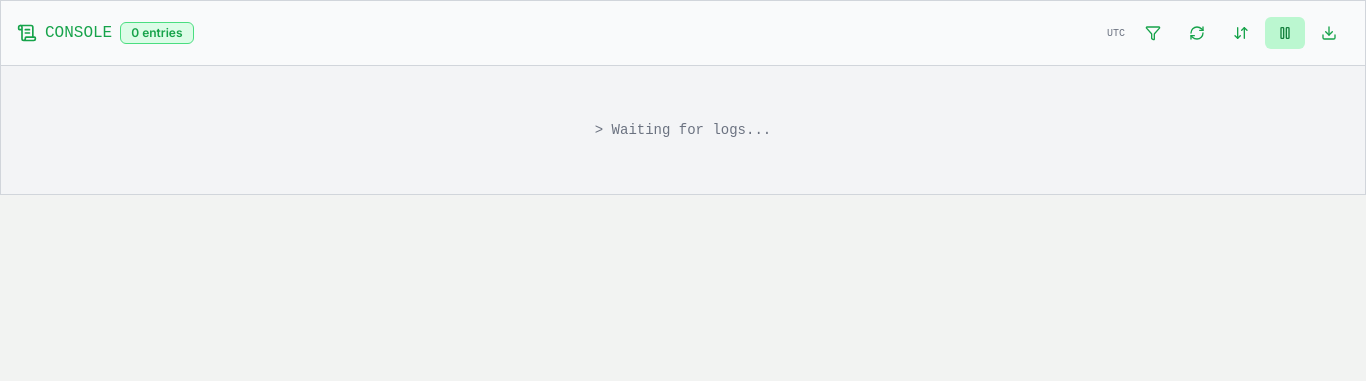
Scenario: ConsoleInterface › date range filtering › resets search, date and range and sends null from Clear
Step 1. Click the 1st button → point(1153, 33), box [1133,17,1173,49]
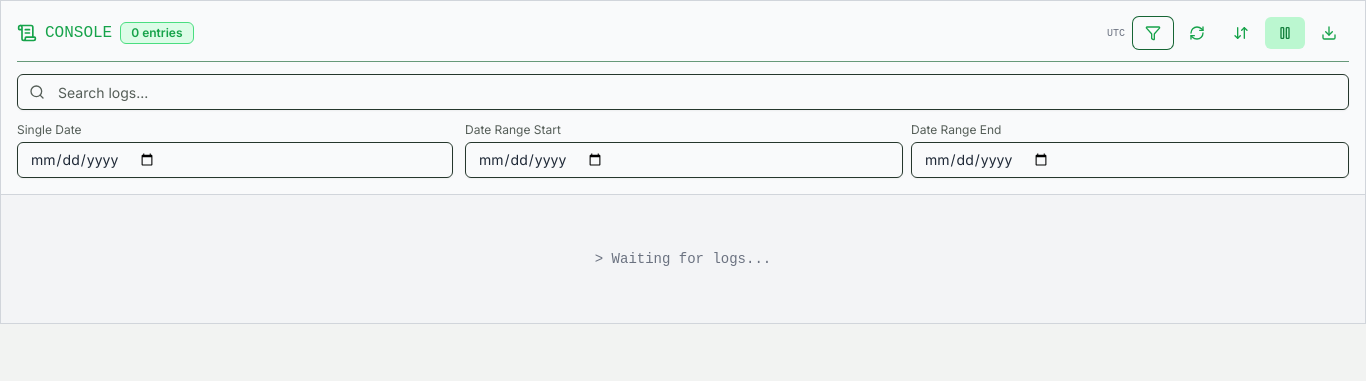
Expected: the button "clear" is not shown
Step 2. Type "2024-03-01" into the date field below "Date Range Start" → point(684, 160), box [465,142,903,178]
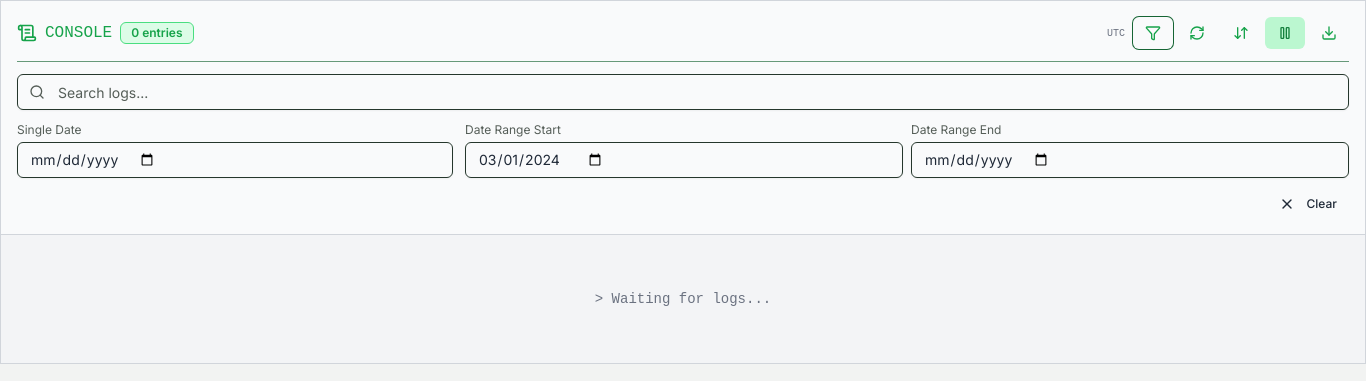
Step 3. Type "abc" into the field with placeholder "Search logs..." → point(683, 92), box [17,74,1349,110]
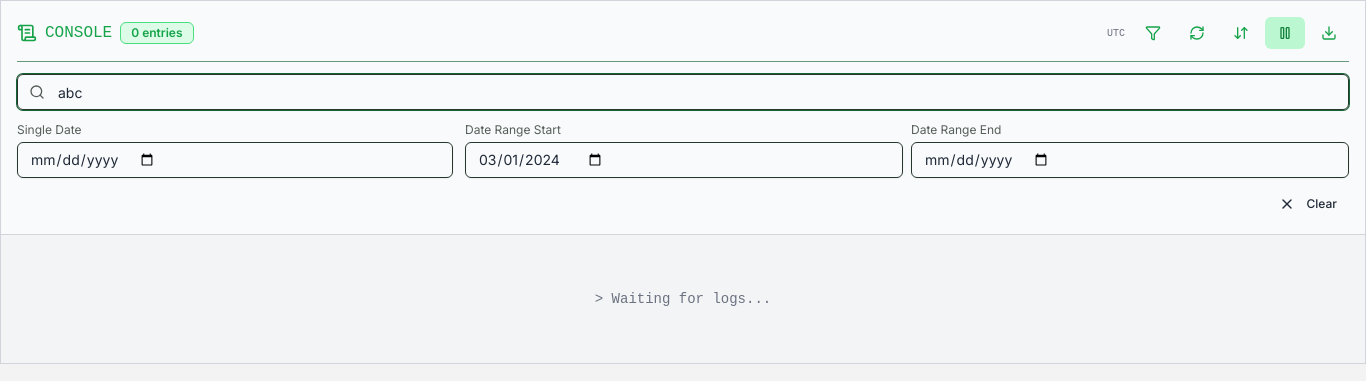
Step 4. Click the button "Clear" → point(1308, 204), box [1266,190,1349,218]
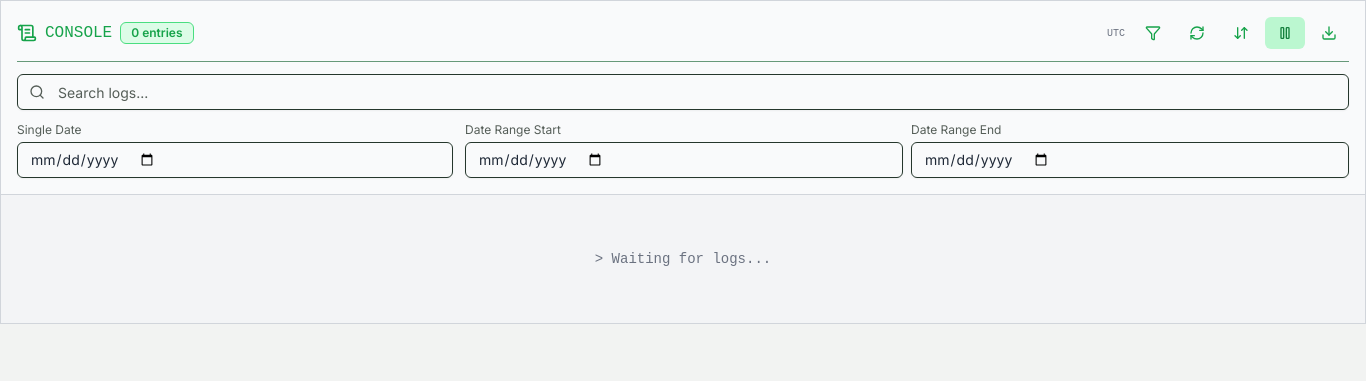
Result: the field with placeholder "Search logs..." is empty at [17,74,1349,110]
Result: the date field below "Date Range Start" is empty at [465,142,903,178]
Result: the button "Clear" is gone
